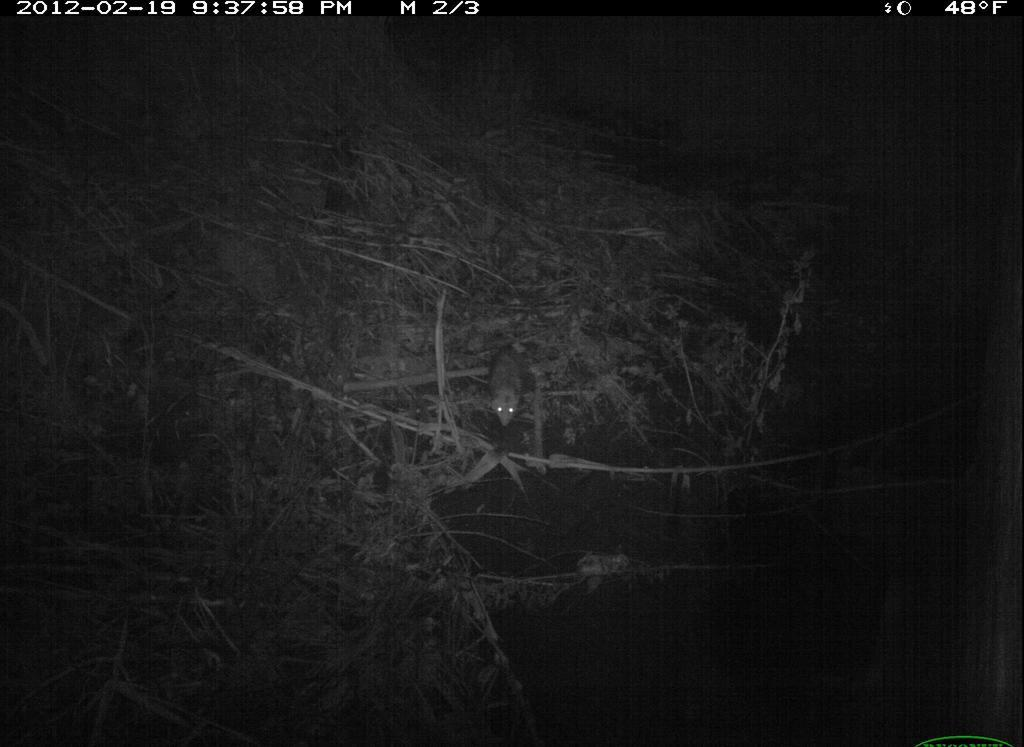opossum: (484, 337, 536, 432)
